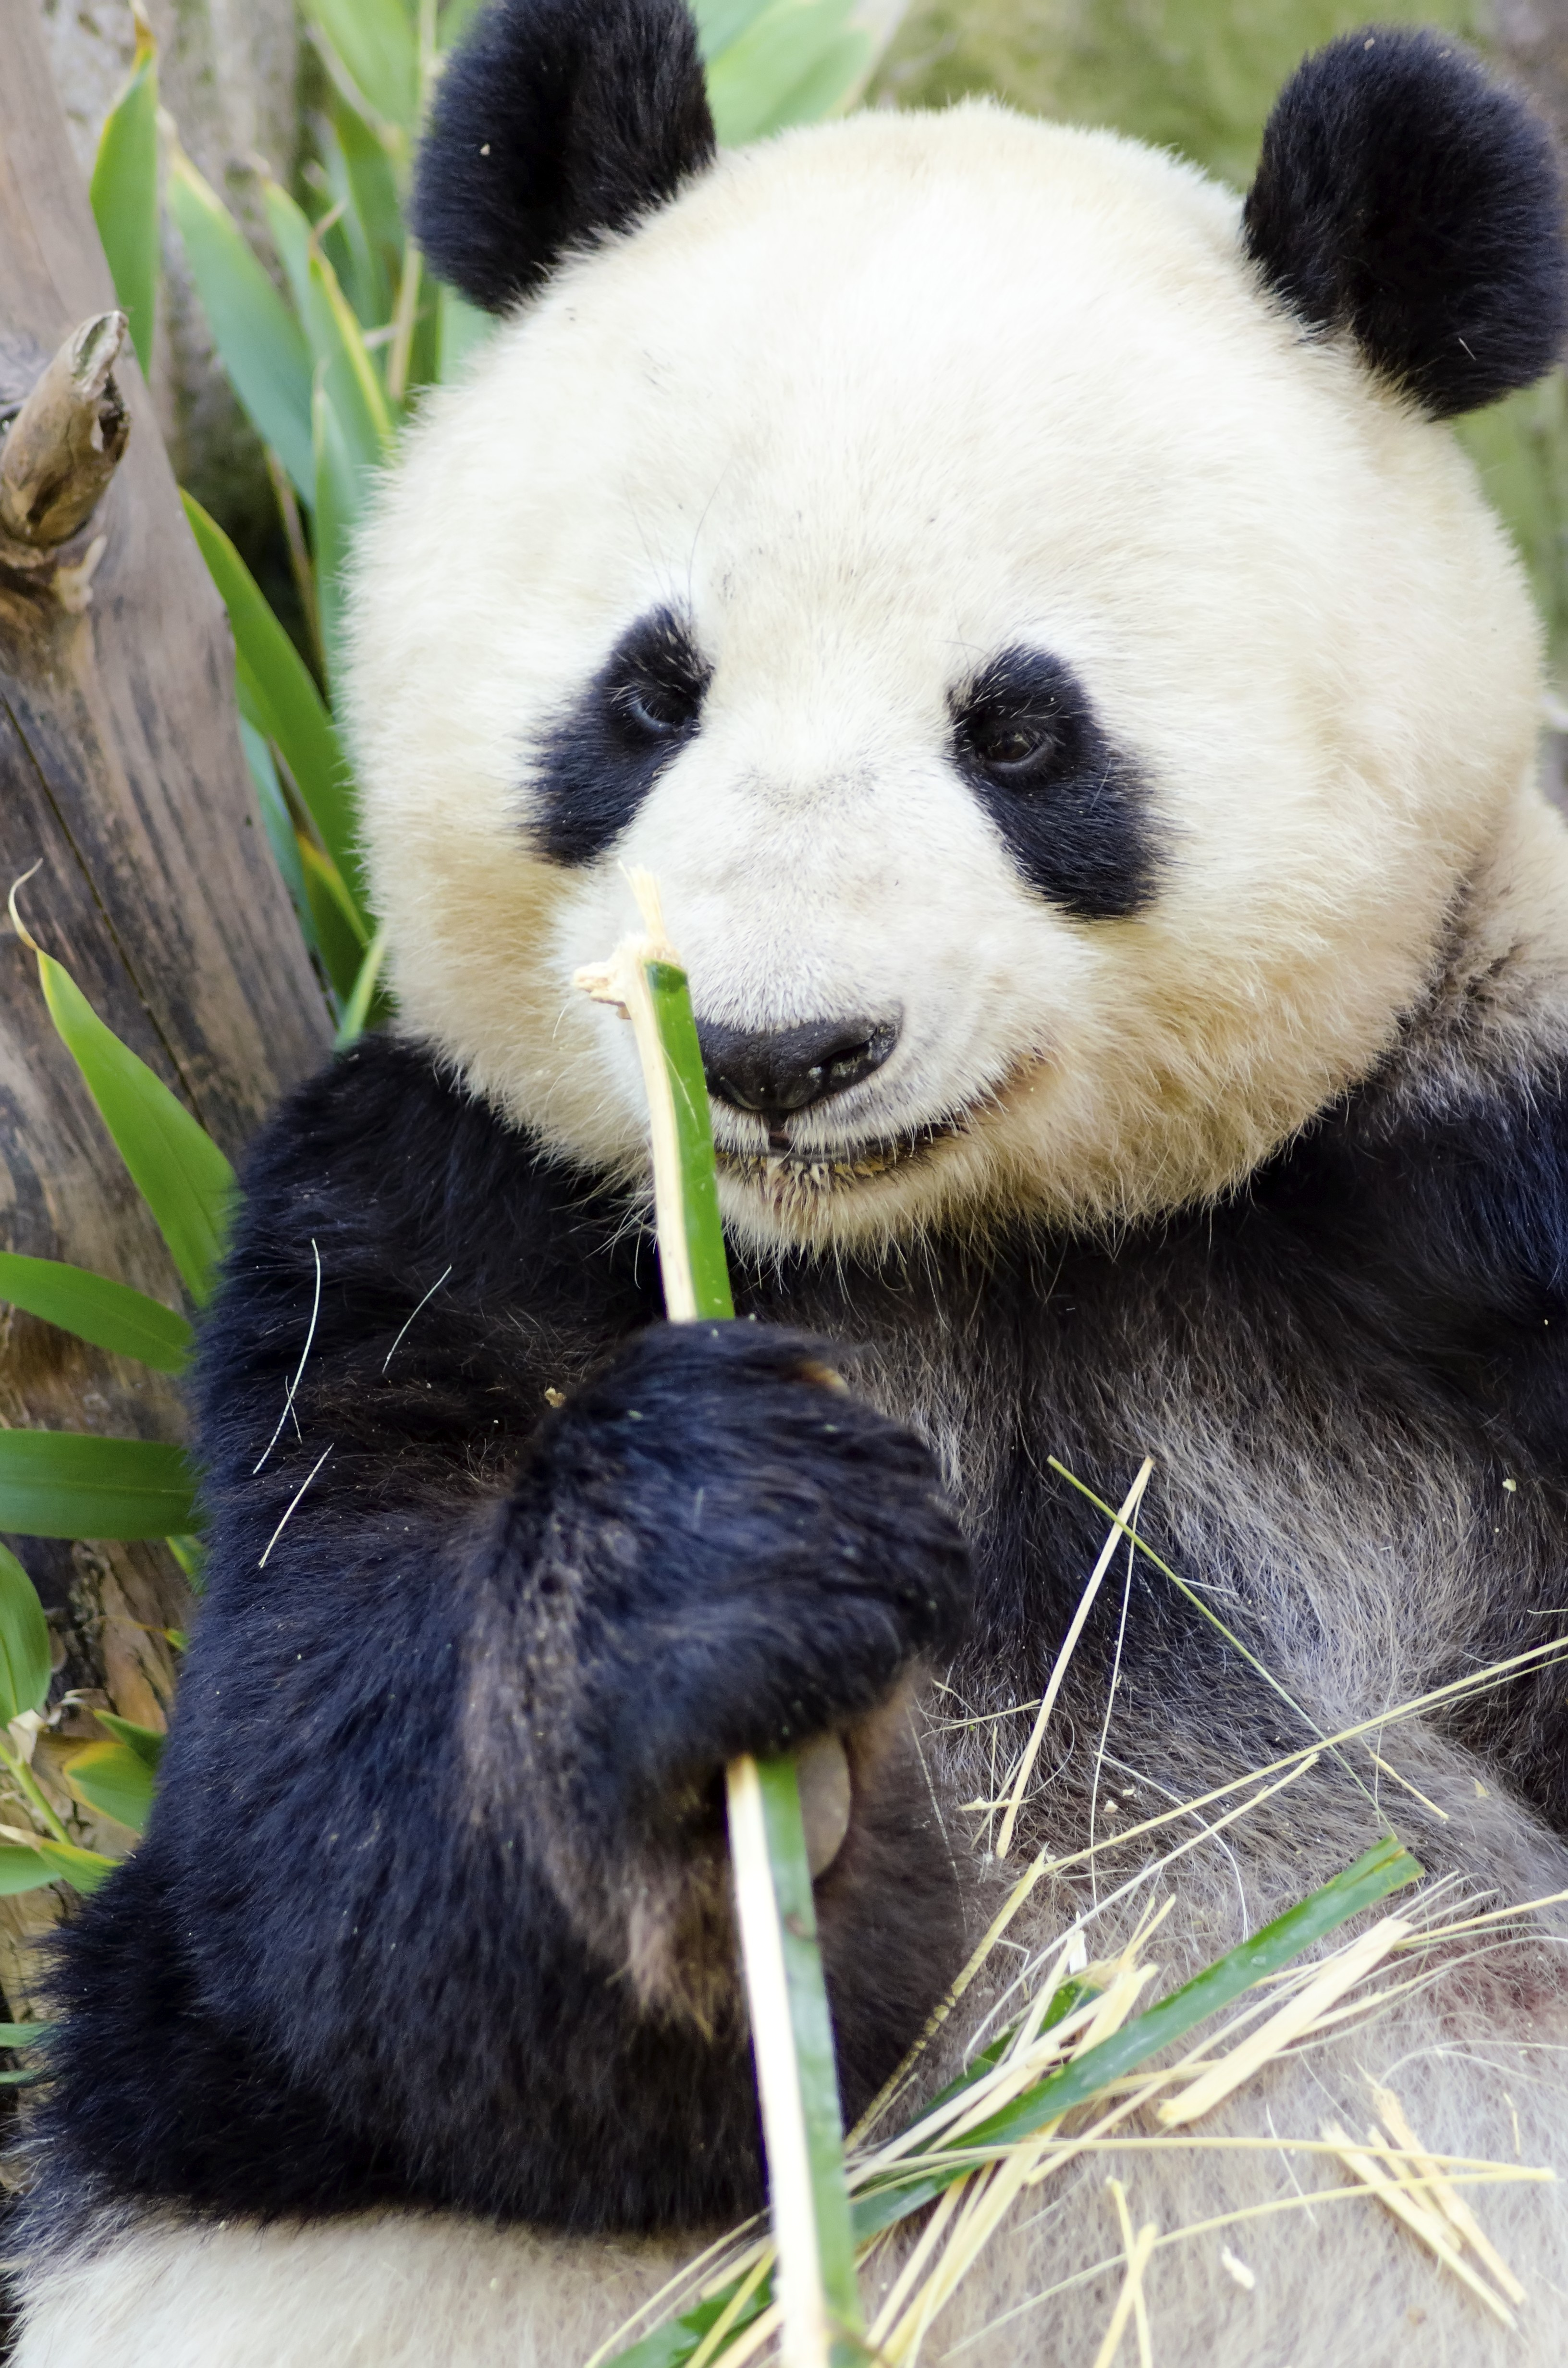panda: (161, 7, 1557, 2205)
